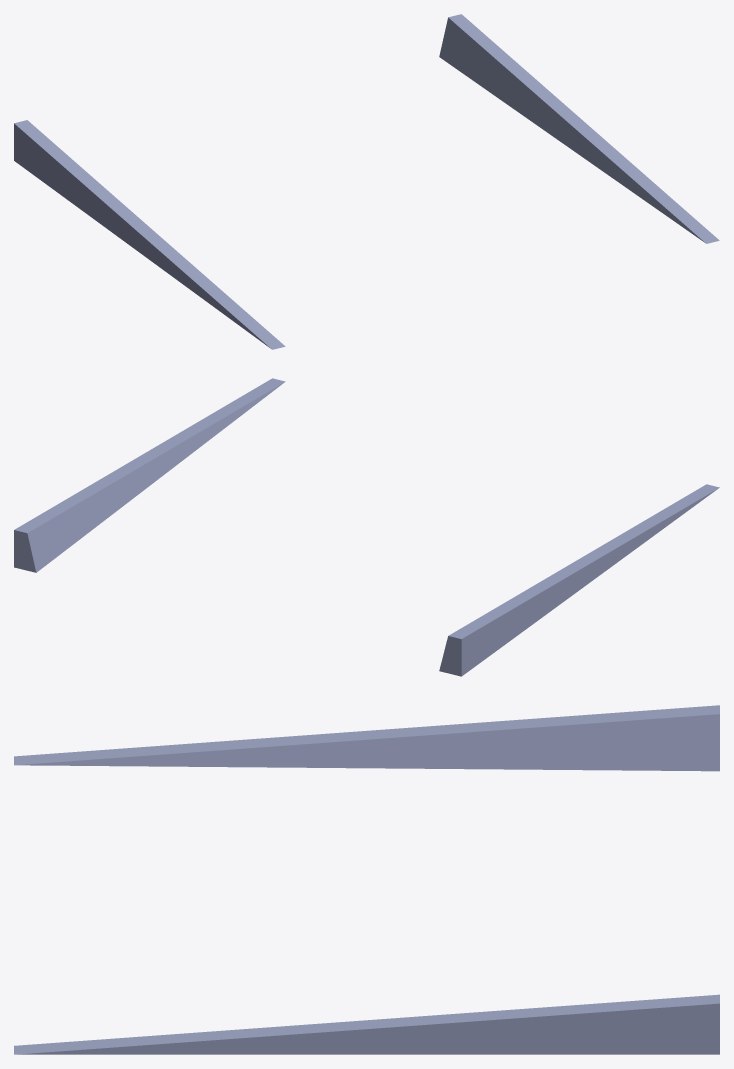
Rendered from road-straight-barrier-end.glb.
3 views of the same model, one above another, from view 1: azimuth 30°, elevation 25°; view 2: azimuth 150°, elevation 25°; view 3: azimuth 270°, elevation 25° (orthographic). The views are drawn at different scales.
Visible parts, largest first — view 1: road-straight-barrier-end; view 2: road-straight-barrier-end; view 3: road-straight-barrier-end.
Boxes of the visible parts, box(x1,y1,x2,y2) form: road-straight-barrier-end: box(14, 14, 719, 349); road-straight-barrier-end: box(14, 378, 719, 676); road-straight-barrier-end: box(14, 705, 719, 1054).
Bounding box in the file's own units: 1 × 0.08 × 1.
Materials: 1 (1 with a texture image).
